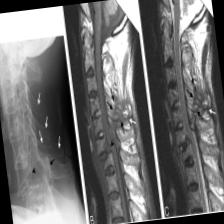longitudinal-fracture: (62, 0, 159, 224), (137, 0, 224, 218), (0, 33, 86, 224)
